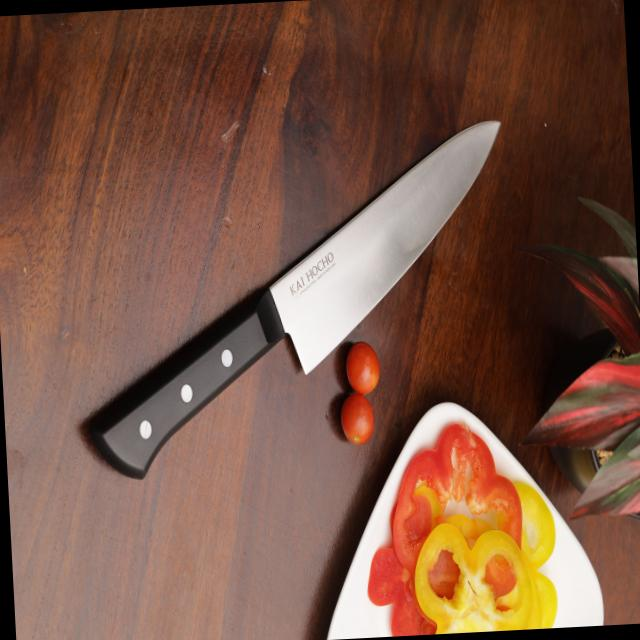Weapon: (66, 114, 525, 490)
